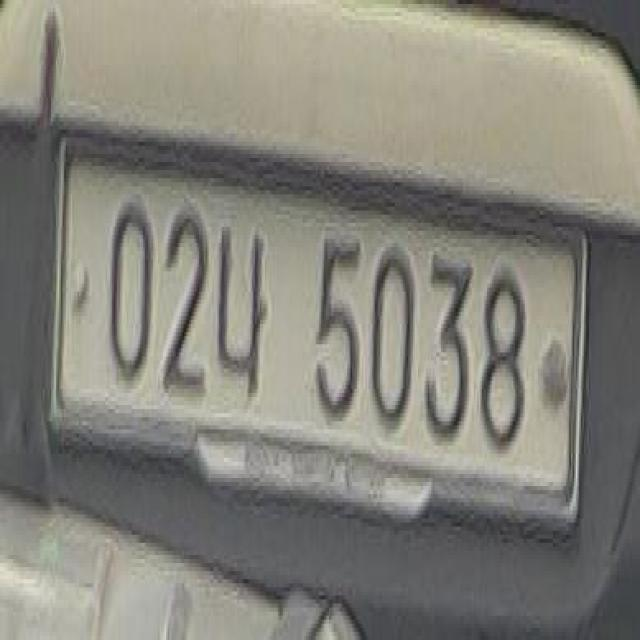illegal_plate: (56, 134, 583, 544)
